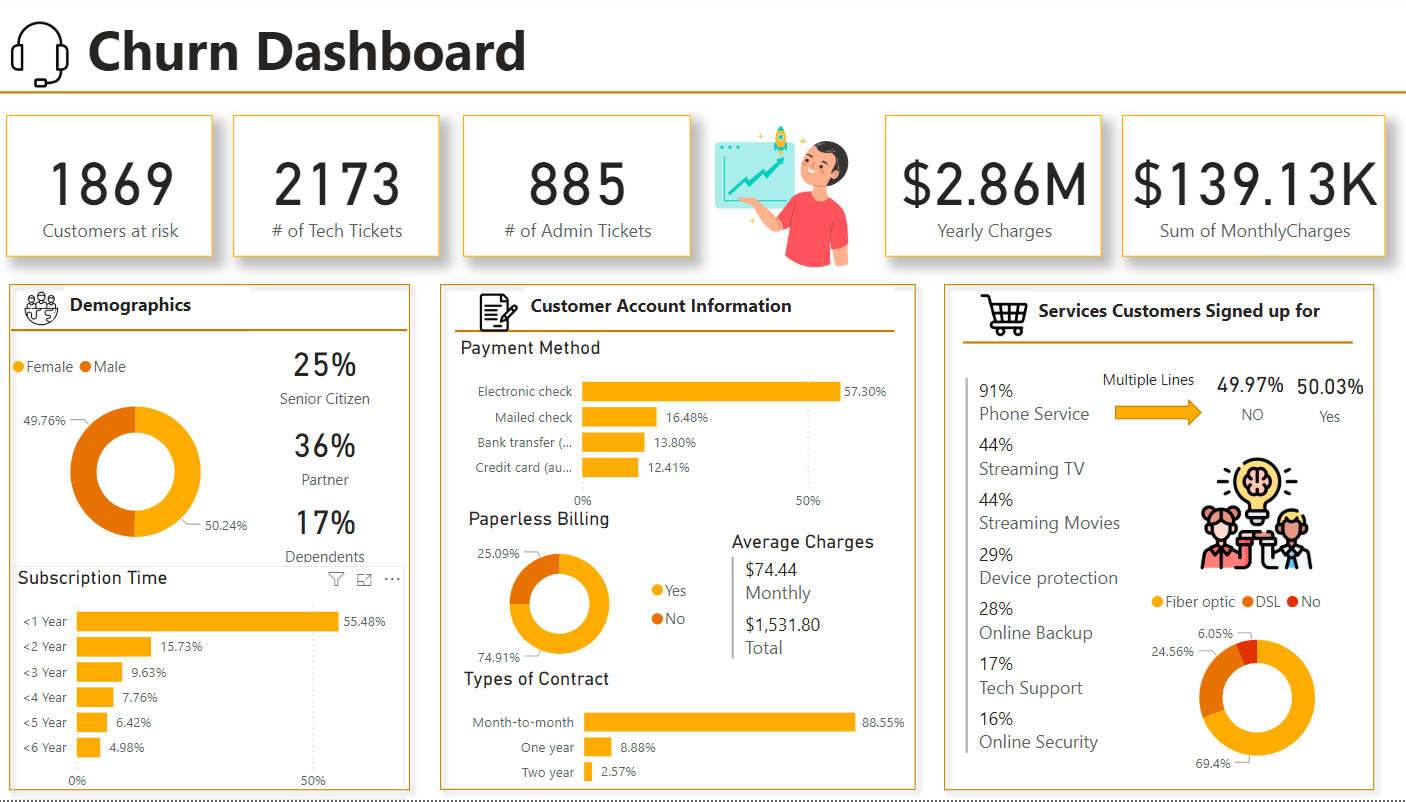

Layout of this report page (visuals, bound fields, positions):
{"tool":"powerbi","page":{"name":"Page 2","canvas":[1280,720],"ordinal":1},"visuals":[{"type":"textbox","box":[10,0,280,280],"z":0},{"type":"textbox","box":[90.4,8.9,510.7,78],"z":1000},{"type":"shape","box":[3.5,74.5,1273.3,23.9],"z":2000},{"type":"card","fields":{"Values":["CountNonNull(01 Churn-Dataset.customerID)"]},"box":[22.4,106.9,184.7,127.3],"z":3000},{"type":"card","fields":{"Values":["Sum(01 Churn-Dataset.numTechTickets)"]},"box":[225.5,106.9,184.7,127.3],"z":4000},{"type":"card","fields":{"Values":["Sum(01 Churn-Dataset.MonthlyCharges)"]},"box":[1021.5,106.9,236.2,127.3],"z":5000},{"type":"card","fields":{"Values":["Sum(01 Churn-Dataset.numAdminTickets)"]},"box":[431.5,106.9,204.1,127.3],"z":6000},{"type":"card","fields":{"Values":["Sum(01 Churn-Dataset.TotalCharges)"]},"box":[809.6,106.9,194.4,127.3],"z":7000},{"type":"shape","box":[16.5,248.8,377.1,471.4],"z":8000},{"type":"textbox","box":[74,260,167,40],"z":9000},{"type":"shape","box":[27.2,286.7,354.7,25.3],"z":10000},{"type":"donutChart","fields":{"Category":["01 Churn-Dataset.gender"],"Y":["CountNonNull(01 Churn-Dataset.gender)"]},"box":[22,312,232,200],"z":11000},{"type":"card","fields":{"Values":["Churn.% of Senior Citizen"]},"box":[241,300,134,73],"z":12000},{"type":"card","fields":{"Values":["Churn.% of Partner"]},"box":[241,373,134,70],"z":13000},{"type":"card","fields":{"Values":["Churn.% of Dependents"]},"box":[241,443,134,69],"z":14000},{"type":"clusteredBarChart","title":"Subscription Time","fields":{"Y":["CountNonNull(Churn.Churn)"],"Category":["Churn.Tenure (In years)"]},"box":[28.2,510.1,351.8,209.9],"z":15000},{"type":"shape","box":[402,249,444,471],"z":16000},{"type":"shape","box":[853.3,248.8,403.3,471.4],"z":17000},{"type":"textbox","box":[487,261,331,40],"z":18000},{"type":"shape","box":[424.7,288.7,393.6,23.3],"z":19000},{"type":"clusteredBarChart","title":"Payment Method","fields":{"Category":["Churn.PaymentMethod"],"Y":["CountNonNull(Churn.PaymentMethod)"]},"box":[424.7,304.2,403.3,165.2],"z":20000},{"type":"donutChart","title":"Paperless Billing","fields":{"Category":["Churn.PaperlessBilling"],"Y":["CountNonNull(Churn.PaperlessBilling)"]},"box":[431.5,457.8,213.8,154.5],"z":21000},{"type":"multiRowCard","title":"Average Charges","fields":{"Values":["Avg(Churn.MonthlyCharges)","Avg(Churn.TotalCharges)"]},"box":[667,478,161,123],"z":22000},{"type":"clusteredBarChart","title":"Types of Contract","fields":{"Category":["Churn.Contract"],"Y":["CountNonNull(Churn.Contract)"]},"box":[427,601,405,117],"z":23000},{"type":"multiRowCard","fields":{"Values":["Churn.% Phone Service","Churn.% Streaming TV","Churn.% Streaming Movies","Churn.% Device protection","Churn.% Online Backup","Churn.% Tech Support","Churn.% Online Sec."]},"box":[876.7,336.3,178.8,368.4],"z":24000},{"type":"shape","box":[1015.6,360.6,77.8,24.3],"z":25000},{"type":"textbox","box":[999.1,329.5,106.9,31.1],"z":26000},{"type":"card","fields":{"Values":["Churn.% NO-Multiple lines"]},"box":[1099.2,323.6,75.8,67.1],"z":27000},{"type":"card","fields":{"Values":["Churn.% Yes-Multiple Lines"]},"box":[1166.3,320.7,83.6,74.8],"z":28000},{"type":"donutChart","title":"Paperless Billing","fields":{"Category":["Churn.InternetService"],"Y":["CountNonNull(Churn.InternetService)"]},"box":[1042,522,201,184],"z":29000},{"type":"image","box":[16.5,17.5,73.9,69],"z":30000},{"type":"image","box":[890.3,258.5,51.5,53.5],"z":32000},{"type":"image","box":[439.3,261.4,47.6,43.7],"z":33000},{"type":"image","box":[34,258.5,39.8,42.8],"z":34000},{"type":"textbox","box":[941.8,265.3,300.3,31.1],"z":35000},{"type":"shape","box":[879.6,299.3,348.9,22.4],"z":36000},{"type":"image","box":[1087.6,408.2,110.8,109.8],"z":37000},{"type":"image","box":[640.5,99.1,153.6,159.4],"z":38000}]}

Visuals, with their boxes in screenshot pixels (x1, y1, x2, y2), scaled from the page's 1280x720 canvas onto the 1406x802 screenshot:
textbox: [11,0,319,312]
textbox: [99,10,660,97]
shape: [4,83,1402,110]
card - CountNonNull(01 Churn-Dataset.customerID): [25,119,227,261]
card - Sum(01 Churn-Dataset.numTechTickets): [248,119,451,261]
card - Sum(01 Churn-Dataset.MonthlyCharges): [1122,119,1382,261]
card - Sum(01 Churn-Dataset.numAdminTickets): [474,119,698,261]
card - Sum(01 Churn-Dataset.TotalCharges): [889,119,1103,261]
shape: [18,277,432,801]
textbox: [81,290,265,334]
shape: [30,319,419,348]
donutChart - 01 Churn-Dataset.gender x CountNonNull(01 Churn-Dataset.gender): [24,348,279,570]
card - Churn.% of Senior Citizen: [265,334,412,415]
card - Churn.% of Partner: [265,415,412,493]
card - Churn.% of Dependents: [265,493,412,570]
"Subscription Time" clusteredBarChart: [31,568,417,801]
shape: [442,277,929,801]
shape: [937,277,1380,801]
textbox: [535,291,899,335]
shape: [467,322,899,348]
"Payment Method" clusteredBarChart: [467,339,910,523]
"Paperless Billing" donutChart: [474,510,709,682]
"Average Charges" multiRowCard: [733,532,910,669]
"Types of Contract" clusteredBarChart: [469,669,914,800]
multiRowCard - Churn.% Phone Service x Churn.% Streaming TV: [963,375,1159,785]
shape: [1116,402,1201,429]
textbox: [1097,367,1215,402]
card - Churn.% NO-Multiple lines: [1207,360,1291,435]
card - Churn.% Yes-Multiple Lines: [1281,357,1373,441]
"Paperless Billing" donutChart: [1145,581,1365,786]
image: [18,19,99,96]
image: [978,288,1035,348]
image: [483,291,535,340]
image: [37,288,81,336]
textbox: [1035,296,1364,330]
shape: [966,333,1349,358]
image: [1195,455,1316,577]
image: [704,110,872,288]
